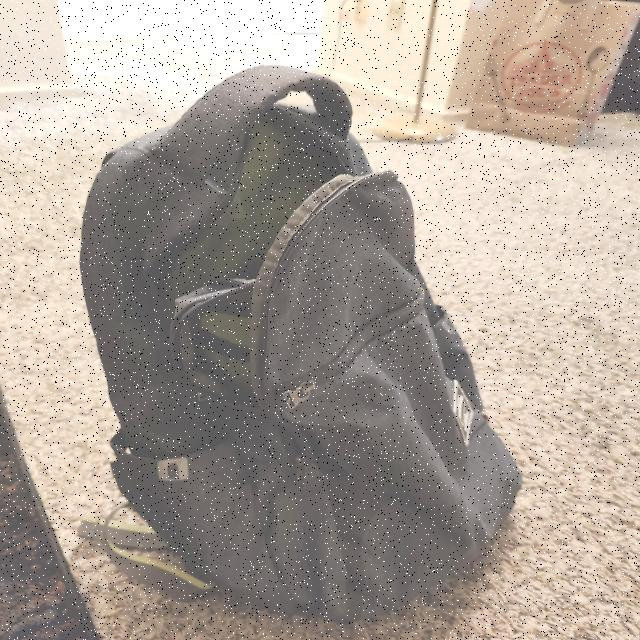bag: (108, 73, 524, 606), (524, 606, 526, 607)
